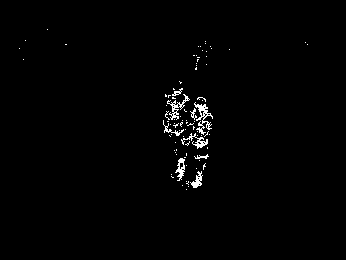person: (162, 81, 191, 180), (186, 96, 212, 189)
